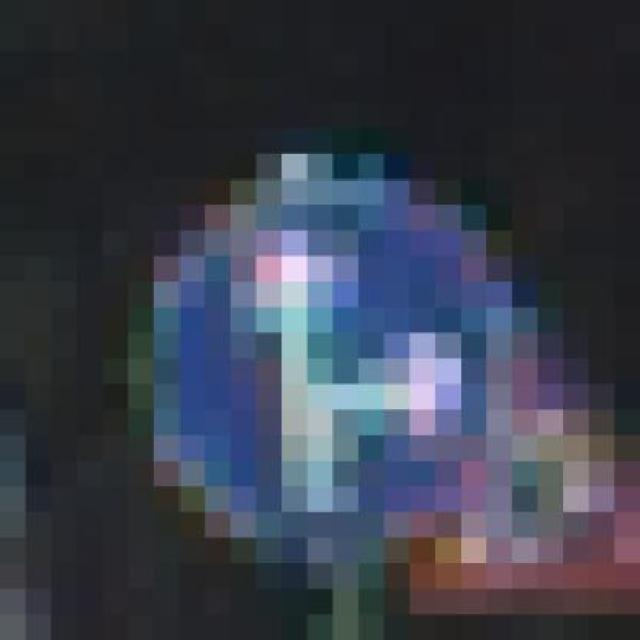Go Straight or Turn Right: (102, 128, 538, 563)
